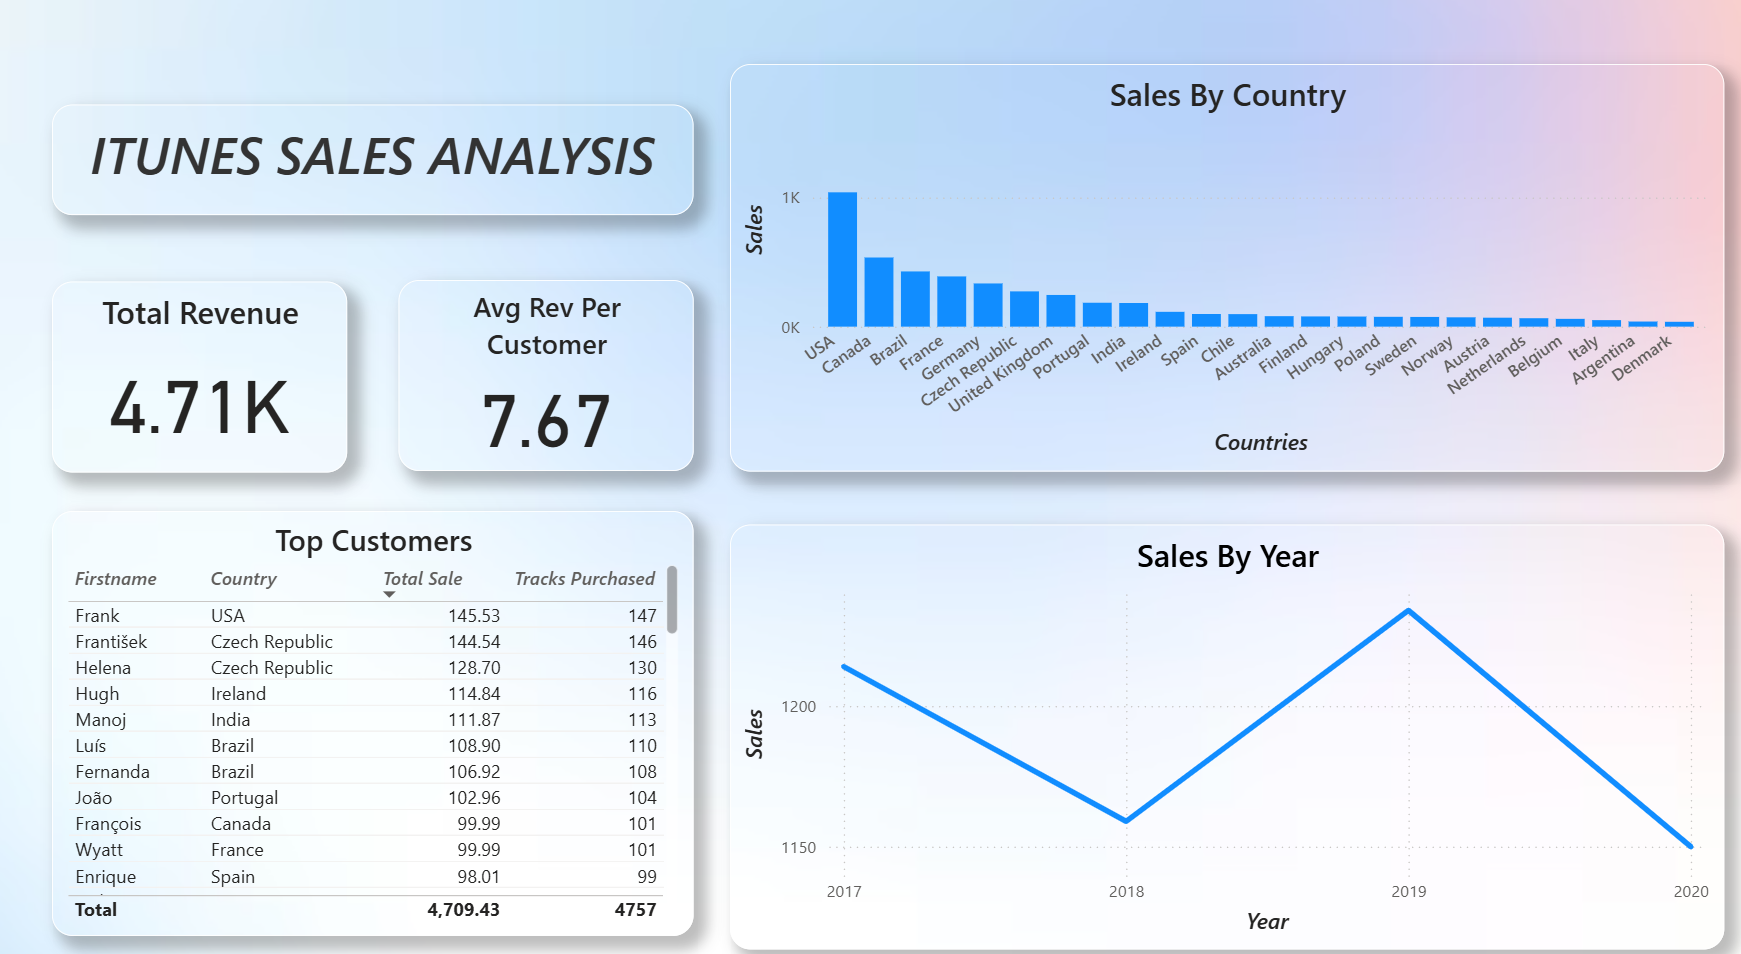

The page's visual inventory and layout, read from the dashboard file:
{"tool":"powerbi","page":{"name":"Page 1","canvas":[1280,720],"ordinal":0},"visuals":[{"type":"areaChart","title":"Sales By Year","fields":{"Category":["public invoice.invoicedate.Variation.Date Hierarchy.Year"],"Y":["public invoice_line.quantity"]},"box":[535.7,399.2,725.2,310.2],"z":0},{"type":"card","title":"Total Revenue","fields":{"Values":["public invoice.total"]},"box":[41.6,222.6,215.4,139.3],"z":1000},{"type":"clusteredColumnChart","title":"Sales By Country","fields":{"Y":["public invoice.total"],"Category":["public invoice.billingcountry"]},"box":[535.7,63.2,725.2,297.3],"z":2000},{"type":"card","title":"Avg Rev Per Customer","fields":{"Values":["public invoice.total"]},"box":[294.4,221.2,215.4,139.3],"z":3000},{"type":"textbox","box":[41.6,93.3,468.2,80.4],"z":4000},{"type":"tableEx","title":"Top Customers","fields":{"Values":["public customer.firstname","public customer.country","public invoice.total","public invoice_line.quantity"]},"box":[41.6,389.2,468.2,310.2],"z":5000}]}

Visuals, with their boxes in screenshot pixels (x1, y1, x2, y2), scaled from the page's 1280x720 canvas onto the 1741x954 screenshot:
"Sales By Year" areaChart: pyautogui.locateOnScreen(729, 529, 1715, 940)
"Total Revenue" card: pyautogui.locateOnScreen(57, 295, 350, 480)
"Sales By Country" clusteredColumnChart: pyautogui.locateOnScreen(729, 84, 1715, 478)
"Avg Rev Per Customer" card: pyautogui.locateOnScreen(400, 293, 693, 478)
textbox: pyautogui.locateOnScreen(57, 124, 693, 230)
"Top Customers" tableEx: pyautogui.locateOnScreen(57, 516, 693, 927)
